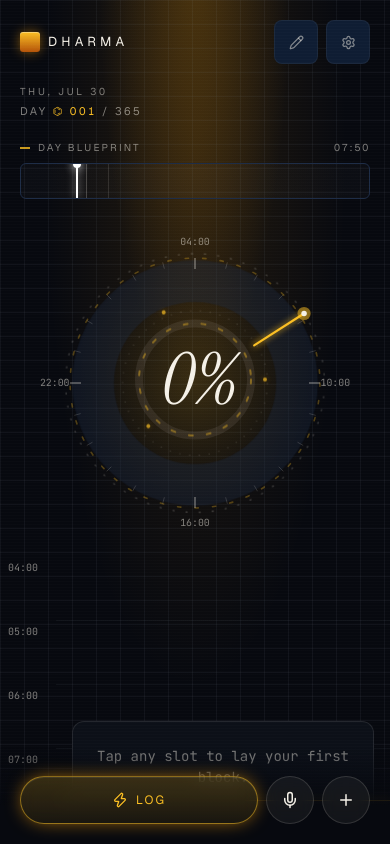
Test case: C-m3-009: LooseBricksTray hidden when empty; appears with block or loose brick › tray appears (collapsed) after a block is added
# Add a block via chooser → AddBlockSheet (M4d routing)
Click the button named "Add".
click(346, 800)  # box [322, 776, 370, 824]
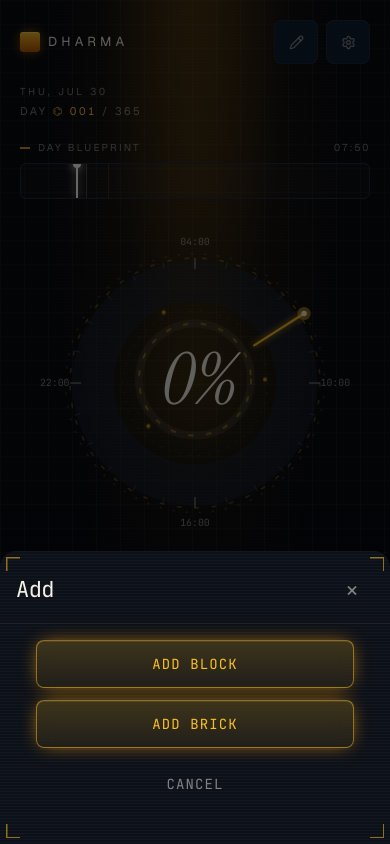
Click the button "Add Block".
click(195, 664)  # box [36, 640, 354, 688]
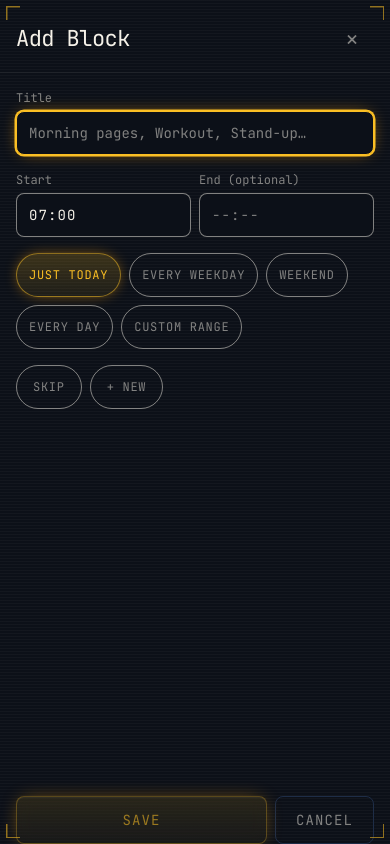
Type "Morning" into the field labelled "Title".
click(195, 133); type("Morning")  # box [16, 111, 374, 155]
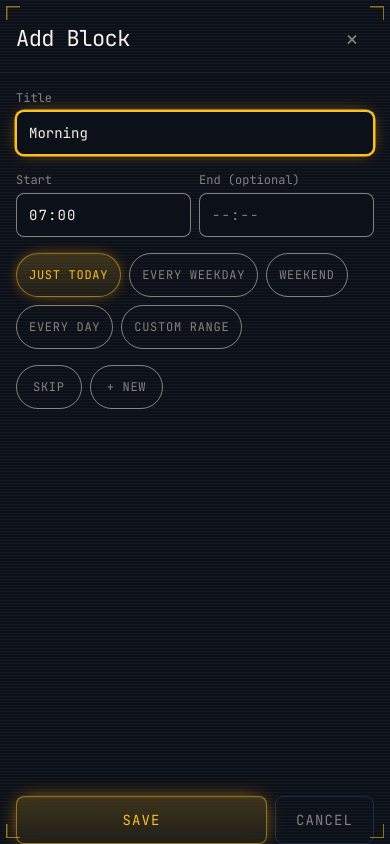
Click the button "Save".
click(141, 820)  # box [16, 796, 267, 843]
(page scrolled)
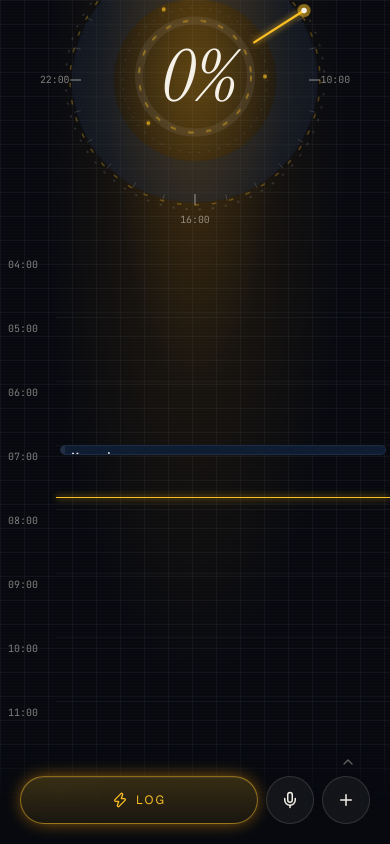
Check: the element named "loose bricks" is shown, box [0, 740, 389, 843]
